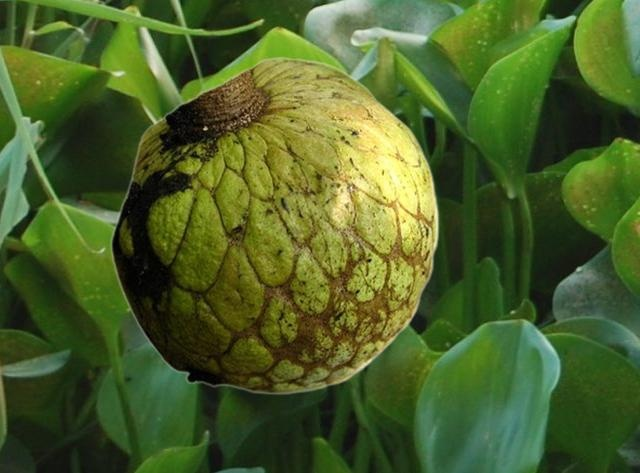atis: (109, 56, 438, 394)
